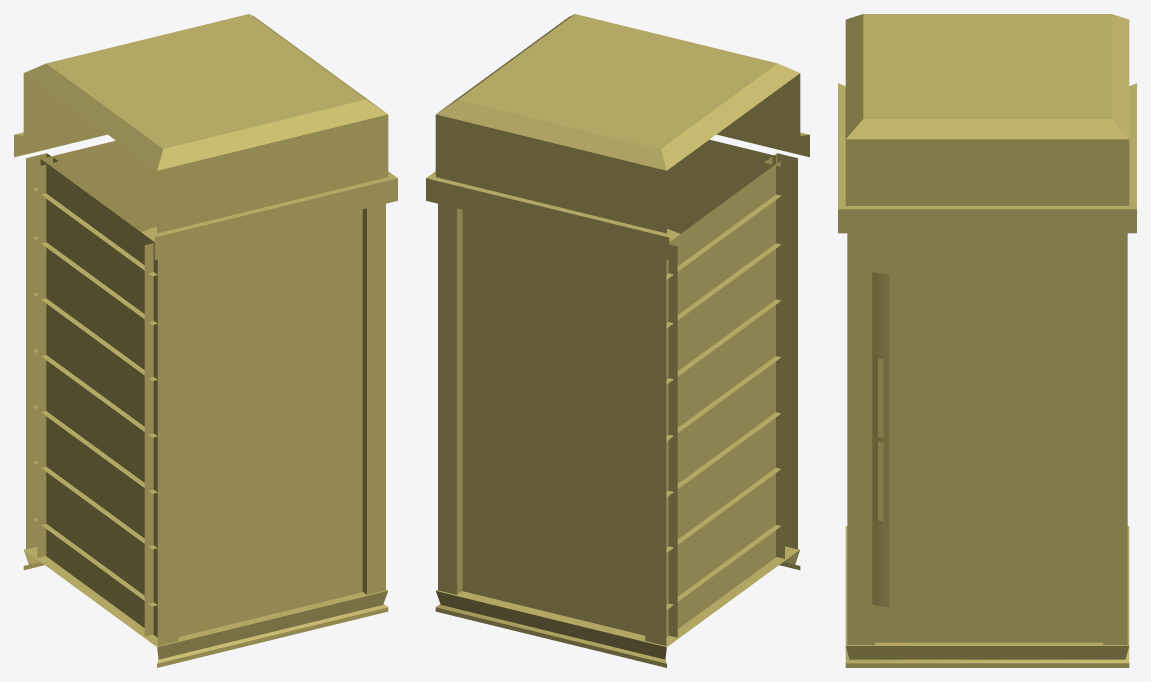
Rendered from Pizza.fbx.
3 renders of one model, left to right at view 1: azimuth 30°, elevation 25°; view 2: azimuth 150°, elevation 25°; view 3: azimuth 270°, elevation 25°, orthographic. The views are drawn at different scales.
Parts seen in each view (by area): view 1: Pizza; view 2: Pizza; view 3: Pizza.
Part boxes in pixels (bbox=[...]): Pizza: bbox=[14, 14, 397, 667]; Pizza: bbox=[426, 14, 809, 667]; Pizza: bbox=[838, 14, 1136, 667].
Size of the model in its own units: 1 by 2 by 1.
